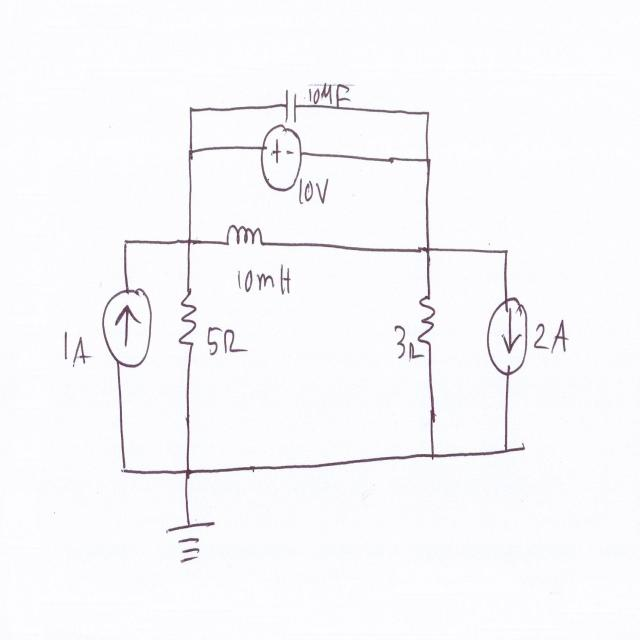capacitor: (281, 84, 301, 124)
current_source: (99, 277, 154, 377), (482, 291, 531, 381)
ground: (159, 517, 216, 568)
inductor: (222, 220, 266, 256)
resistor: (418, 280, 440, 358), (177, 288, 198, 350)
